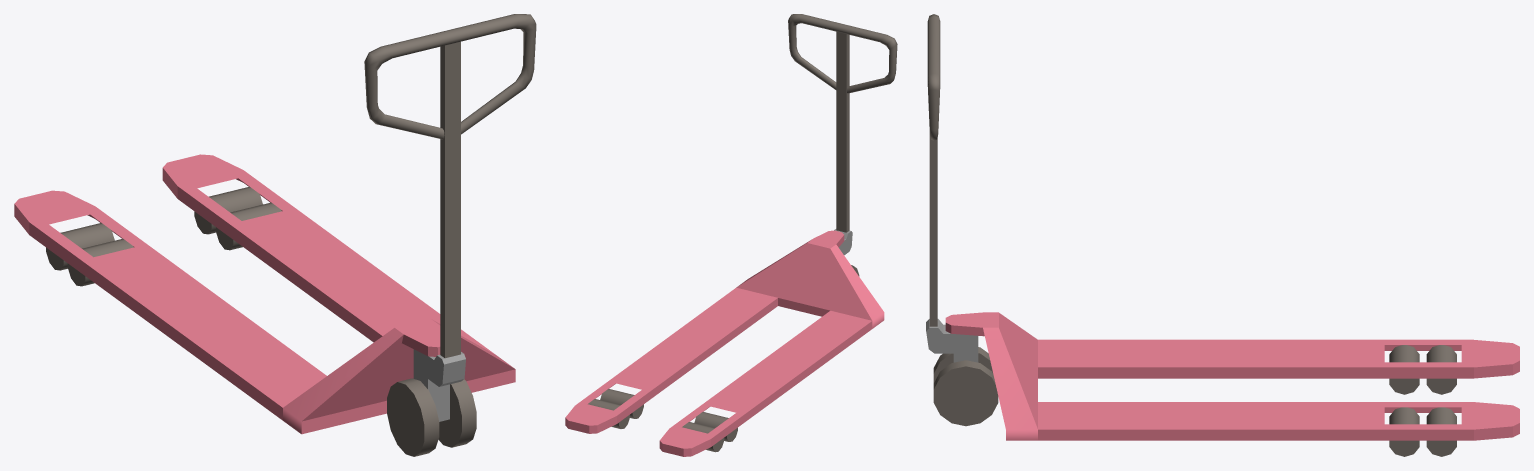
Rendered from transpalette.fbx.
3 views of the same model, side by side, from view 1: azimuth 30°, elevation 25°; view 2: azimuth 150°, elevation 25°; view 3: azimuth 270°, elevation 25° (orthographic). The views are drawn at different scales.
Visible parts, largest first — view 1: transpalette; view 2: transpalette; view 3: transpalette.
Part boxes in pixels (<box>): transpalette: <box>14,14,536,456</box>; transpalette: <box>565,14,897,456</box>; transpalette: <box>926,14,1519,456</box>.
Size of the model in its own units: 82.14 by 158 by 229.
